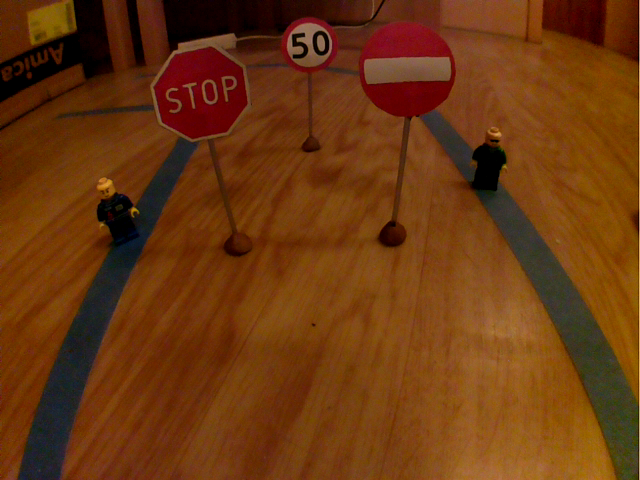Ograniczenie 50: (278, 14, 344, 78)
Postac LEGO: (88, 174, 147, 254), (464, 124, 514, 199)
Stop: (145, 39, 259, 148)
Zakaz: (354, 17, 461, 123)
